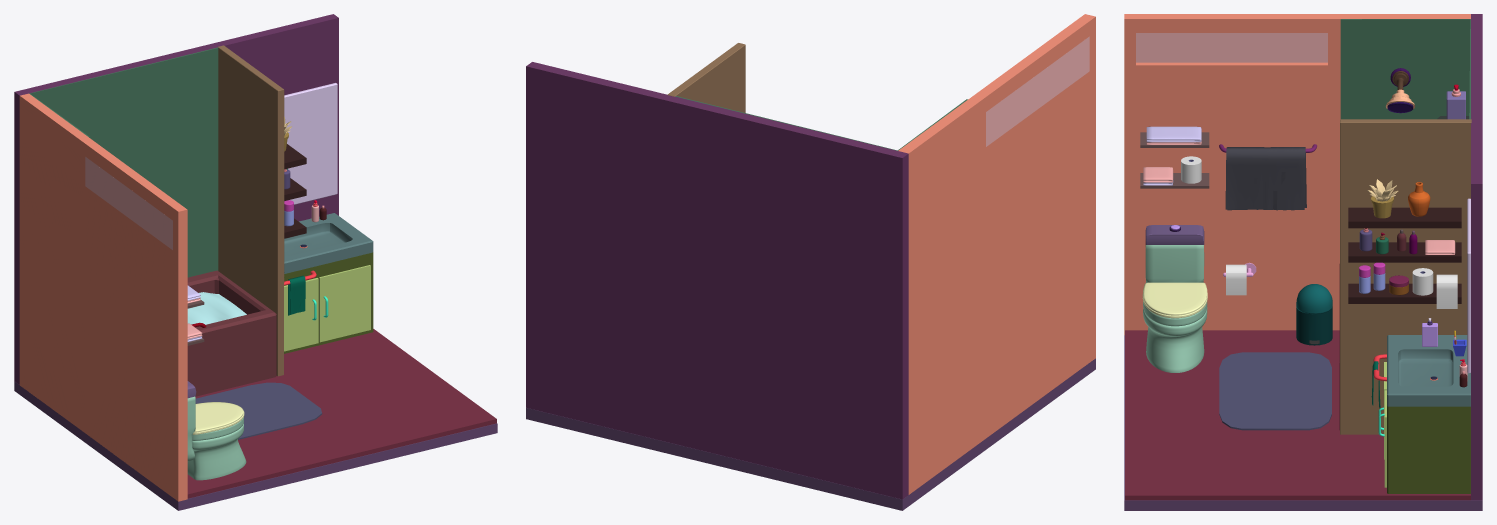
File: Bathroom.fbx
3 renders of one model, left to right at view 1: azimuth 30°, elevation 25°; view 2: azimuth 150°, elevation 25°; view 3: azimuth 270°, elevation 25°, orthographic. The views are drawn at different scales.
Visible parts, largest first — view 1: polySurface405, polySurface301, polySurface330, polySurface306, polySurface289, polySurface342, polySurface452, polySurface352, polySurface407, polySurface322, polySurface347, polySurface457 (+6 smaller); view 2: polySurface289, polySurface405, polySurface407, polySurface402, polySurface306; view 3: polySurface405, polySurface301, polySurface306, polySurface330, polySurface322, polySurface452.001, polySurface289, polySurface402, polySurface457, polySurface347, polySurface325, polySurface326 (+13 smaller).
Boxes of the visible parts, <box> form: polySurface405: <box>19,93,187,501</box>; polySurface301: <box>187,329,496,498</box>; polySurface330: <box>29,47,218,277</box>; polySurface306: <box>218,45,284,376</box>; polySurface289: <box>14,14,338,384</box>; polySurface342: <box>187,270,276,396</box>; polySurface452: <box>284,265,370,351</box>; polySurface352: <box>284,83,337,204</box>; polySurface407: <box>14,381,497,510</box>; polySurface322: <box>195,382,322,439</box>; polySurface347: <box>284,213,373,273</box>; polySurface457: <box>187,396,246,480</box>; polySurface289: <box>526,62,908,499</box>; polySurface405: <box>898,14,1095,494</box>; polySurface407: <box>526,358,1095,510</box>; polySurface402: <box>986,36,1089,146</box>; polySurface306: <box>667,43,745,112</box>; polySurface405: <box>1124,14,1470,335</box>; polySurface301: <box>1125,330,1470,500</box>; polySurface306: <box>1340,119,1471,434</box>; polySurface330: <box>1340,19,1470,119</box>; polySurface322: <box>1219,352,1331,430</box>; polySurface452.001: <box>1387,406,1470,493</box>; polySurface289: <box>1471,14,1482,500</box>; polySurface402: <box>1136,33,1327,62</box>; polySurface457: <box>1143,245,1207,372</box>; polySurface347: <box>1387,335,1470,406</box>; polySurface325: <box>1348,207,1461,303</box>; polySurface326: <box>1225,147,1306,210</box>.
Size of the model in its own units: 1363 by 1222 by 1212.
